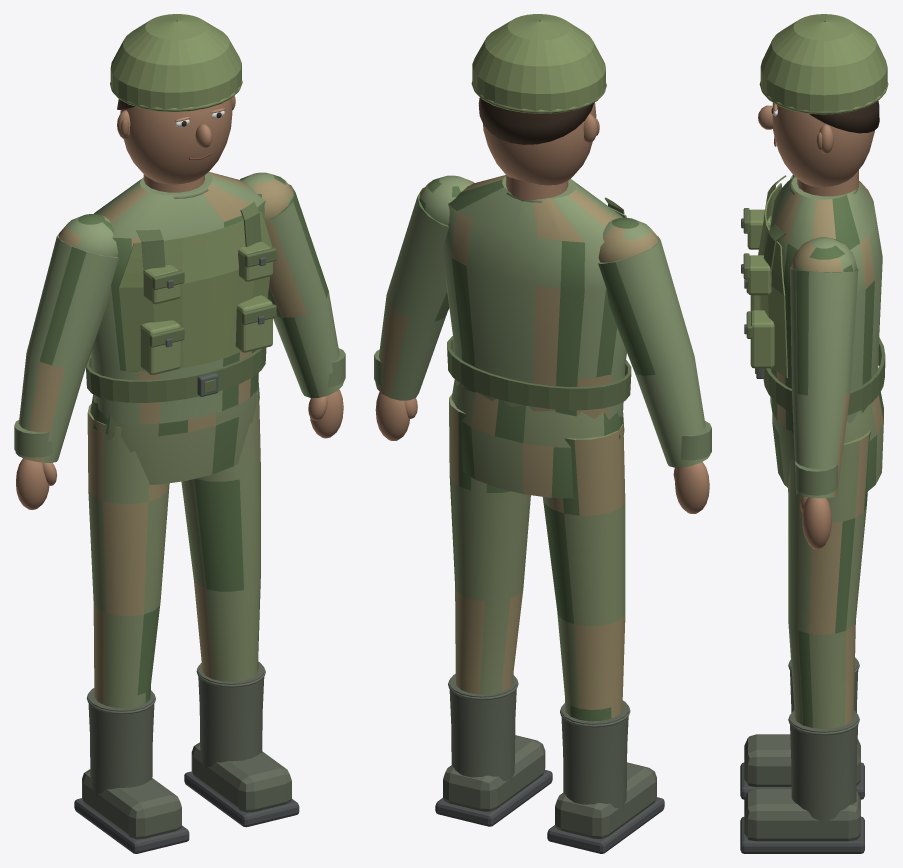
The model's file is soldier_woodland_1.glb.
3 views of the same model, side by side, from view 1: azimuth 30°, elevation 25°; view 2: azimuth 150°, elevation 25°; view 3: azimuth 270°, elevation 25° (orthographic).
Parts seen in each view (by area): view 1: Woodland_Soldier_1_Trouser_Leg, Woodland_Soldier_1_Trouser_Leg.001, Woodland_Soldier_1_Torso_And_Main_Clothes, Woodland_Soldier_1_Fitted_Field_Vest, Woodland_Soldier_1_Long_Sleeve, Woodland_Soldier_1_Open_Face_Helmet, Woodland_Soldier_1_Long_Sleeve.001, Woodland_Soldier_1_Connected_Hip_Garment, Woodland_Soldier_1_Head, Woodland_Soldier_1_High_Boot_Shaft, Woodland_Soldier_1_High_Boot_Shaft.001, Woodland_Soldier_1_Shoe_Upper.001 (+15 smaller); view 2: Woodland_Soldier_1_Torso_And_Main_Clothes, Woodland_Soldier_1_Trouser_Leg, Woodland_Soldier_1_Trouser_Leg.001, Woodland_Soldier_1_Long_Sleeve, Woodland_Soldier_1_Connected_Hip_Garment, Woodland_Soldier_1_Open_Face_Helmet, Woodland_Soldier_1_Long_Sleeve.001, Woodland_Soldier_1_High_Boot_Shaft, Woodland_Soldier_1_High_Boot_Shaft.001, Woodland_Soldier_1_Waist_Belt, Woodland_Soldier_1_Head, Woodland_Soldier_1_Shoe_Upper.001 (+10 smaller); view 3: Woodland_Soldier_1_Trouser_Leg.001, Woodland_Soldier_1_Long_Sleeve.001, Woodland_Soldier_1_Torso_And_Main_Clothes, Woodland_Soldier_1_Open_Face_Helmet, Woodland_Soldier_1_High_Boot_Shaft.001, Woodland_Soldier_1_Head, Woodland_Soldier_1_Shoe_Upper.001, Woodland_Soldier_1_Connected_Hip_Garment, Woodland_Soldier_1_Shoe_Upper, Woodland_Soldier_1_Fitted_Field_Vest, Woodland_Soldier_1_Shoe_Sole.001, Woodland_Soldier_1_Rounded_Shoulder_Cloth.001 (+14 smaller).
Part boxes in pixels (x1,y1,x2,y2): Woodland_Soldier_1_Trouser_Leg: [87, 404, 169, 708]; Woodland_Soldier_1_Trouser_Leg.001: [181, 392, 260, 681]; Woodland_Soldier_1_Torso_And_Main_Clothes: [91, 172, 265, 424]; Woodland_Soldier_1_Fitted_Field_Vest: [119, 212, 272, 370]; Woodland_Soldier_1_Long_Sleeve: [15, 234, 118, 462]; Woodland_Soldier_1_Open_Face_Helmet: [110, 14, 241, 110]; Woodland_Soldier_1_Long_Sleeve.001: [265, 184, 343, 397]; Woodland_Soldier_1_Connected_Hip_Garment: [90, 378, 259, 484]; Woodland_Soldier_1_Head: [120, 99, 232, 184]; Woodland_Soldier_1_High_Boot_Shaft: [88, 688, 154, 795]; Woodland_Soldier_1_High_Boot_Shaft.001: [198, 661, 264, 768]; Woodland_Soldier_1_Shoe_Upper.001: [191, 742, 291, 812]; Woodland_Soldier_1_Torso_And_Main_Clothes: [443, 175, 626, 419]; Woodland_Soldier_1_Trouser_Leg: [542, 423, 625, 721]; Woodland_Soldier_1_Trouser_Leg.001: [449, 394, 530, 694]; Woodland_Soldier_1_Long_Sleeve: [598, 236, 710, 467]; Woodland_Soldier_1_Connected_Hip_Garment: [451, 379, 624, 498]; Woodland_Soldier_1_Open_Face_Helmet: [472, 14, 605, 112]; Woodland_Soldier_1_Long_Sleeve.001: [375, 187, 449, 400]; Woodland_Soldier_1_High_Boot_Shaft: [561, 700, 628, 809]; Woodland_Soldier_1_High_Boot_Shaft.001: [449, 674, 517, 782]; Woodland_Soldier_1_Waist_Belt: [447, 336, 631, 410]; Woodland_Soldier_1_Head: [483, 102, 596, 185]; Woodland_Soldier_1_Shoe_Upper.001: [443, 735, 545, 811]; Woodland_Soldier_1_Trouser_Leg.001: [788, 430, 870, 728]; Woodland_Soldier_1_Long_Sleeve.001: [790, 267, 858, 498]; Woodland_Soldier_1_Torso_And_Main_Clothes: [770, 177, 882, 432]; Woodland_Soldier_1_Open_Face_Helmet: [760, 14, 887, 113]; Woodland_Soldier_1_High_Boot_Shaft.001: [789, 710, 858, 823]; Woodland_Soldier_1_Head: [772, 103, 874, 187]; Woodland_Soldier_1_Shoe_Upper.001: [744, 788, 860, 841]; Woodland_Soldier_1_Connected_Hip_Garment: [772, 392, 883, 492]; Woodland_Soldier_1_Shoe_Upper: [744, 734, 860, 786]; Woodland_Soldier_1_Fitted_Field_Vest: [758, 183, 788, 377]; Woodland_Soldier_1_Shoe_Sole.001: [740, 816, 864, 853]; Woodland_Soldier_1_Rounded_Shoulder_Cloth.001: [791, 237, 857, 272].
Size of the model in its own units: 0.7959 by 1.83 by 0.3096.
